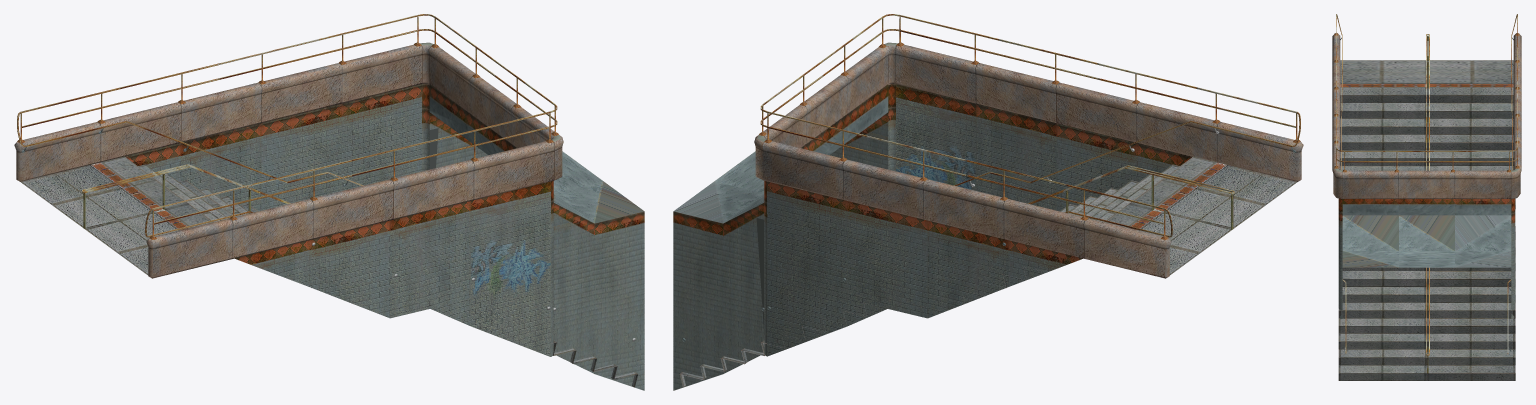
Rendered from Subway_Entrance.fbx.
The picture shows the model from 3 angles, left to right: view 1: azimuth 30°, elevation 25°; view 2: azimuth 150°, elevation 25°; view 3: azimuth 270°, elevation 25°; orthographic projection. The views are drawn at different scales.
Parts seen in each view (by area): view 1: Subway_Entrance_01; view 2: Subway_Entrance_01; view 3: Subway_Entrance_01.
Boxes of the visible parts, left/top/right/bottom form: Subway_Entrance_01: left=14, top=14, right=644, bottom=390; Subway_Entrance_01: left=673, top=14, right=1303, bottom=390; Subway_Entrance_01: left=1332, top=14, right=1521, bottom=380.
Bounding box in the file's own units: 1503 × 871 × 709.
